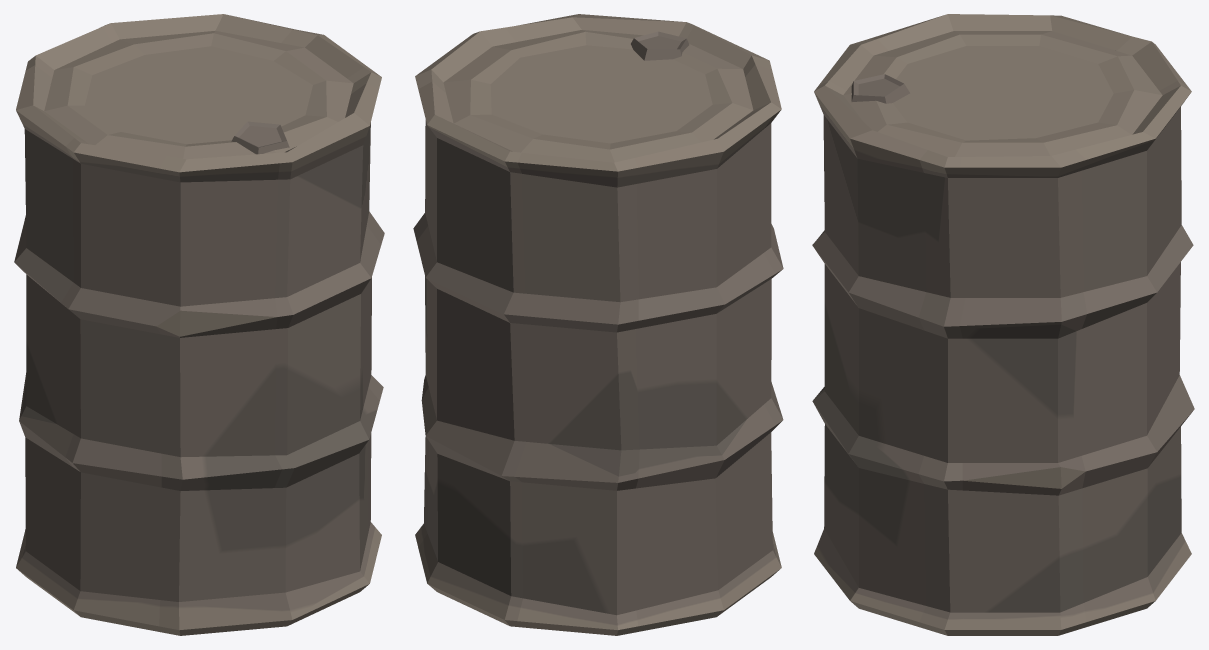
The model's file is SM_Barrel_A_03.gltf.
3 renders of one model, left to right at view 1: azimuth 30°, elevation 25°; view 2: azimuth 150°, elevation 25°; view 3: azimuth 270°, elevation 25°, orthographic.
Visible parts, largest first — view 1: SM_Barrel_A_03, SM_Lid_03; view 2: SM_Barrel_A_03, SM_Lid_03; view 3: SM_Barrel_A_03, SM_Lid_03.
Boxes of the visible parts, x1,y1,x2,y2 form: SM_Barrel_A_03: (14, 14, 384, 635); SM_Lid_03: (44, 30, 353, 159); SM_Barrel_A_03: (413, 14, 783, 635); SM_Lid_03: (443, 30, 753, 162); SM_Barrel_A_03: (812, 14, 1194, 635); SM_Lid_03: (843, 31, 1162, 156).
Size of the model in its own units: 0.6244 by 0.9035 by 0.6519.
Materials: 1 (1 with a texture image).
